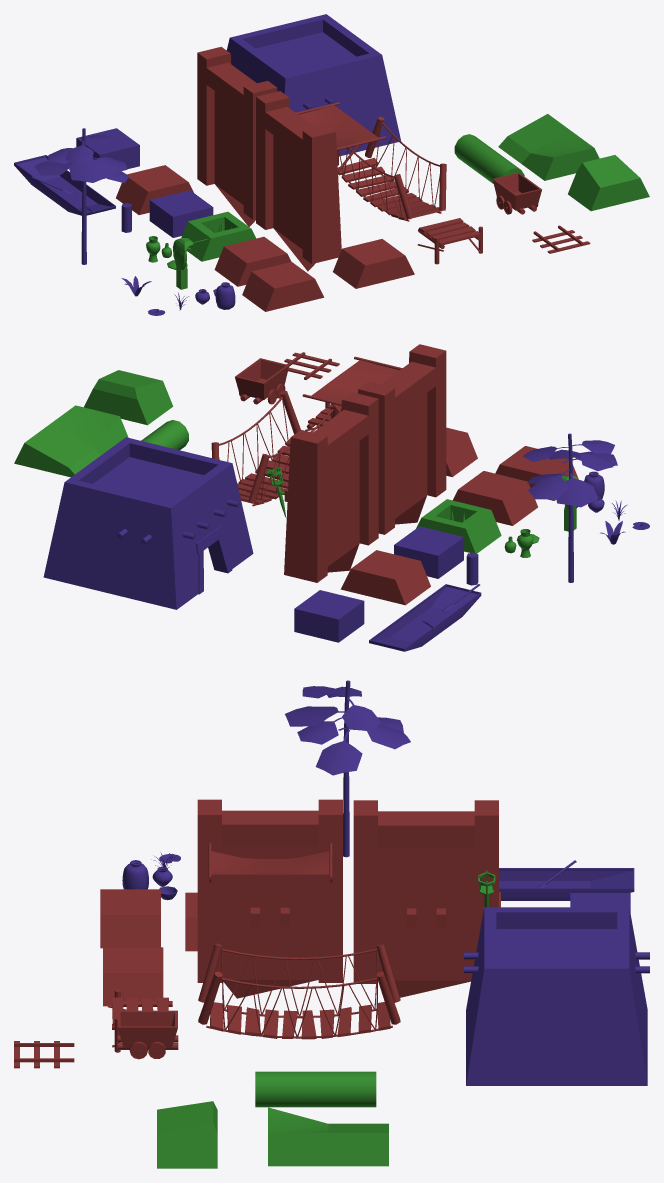
The model's file is Poging.FBX.
3 views of the same model, one above another, from view 1: azimuth 30°, elevation 25°; view 2: azimuth 150°, elevation 25°; view 3: azimuth 270°, elevation 25° (orthographic). The views are drawn at different scales.
Visible parts, largest first — view 1: Box107, Box151, Box152, Box064, jump, checkpoint, overgang-steen-zand, Box156, Box065, Box108, Box056, tilenaarschuin (+15 smaller); view 2: Box107, Box065, Box064, Box152, Box108, zand, jump, Box151, Box020, steenblok, steen, Box156 (+14 smaller); view 3: Box107, Box064, Box152, balk, Box020, Box156, jump, Box108, Box151, checkpoint, Box155, Box069 (+14 smaller).
Boxes of the visible parts, x1=… form: Box107: x1=226, y1=14, x2=400, y2=156; Box151: x1=302, y1=125, x2=341, y2=263; Box152: x1=273, y1=135, x2=315, y2=271; Box064: x1=214, y1=91, x2=255, y2=226; jump: x1=568, y1=155, x2=649, y2=211; checkpoint: x1=242, y1=262, x2=324, y2=311; overgang-steen-zand: x1=333, y1=239, x2=414, y2=288; Box156: x1=256, y1=91, x2=289, y2=229; Box065: x1=197, y1=46, x2=231, y2=185; Box108: x1=14, y1=155, x2=115, y2=215; Box056: x1=181, y1=211, x2=256, y2=261; tilenaarschuin: x1=521, y1=131, x2=599, y2=180; Box107: x1=43, y1=437, x2=253, y2=609; Box065: x1=284, y1=430, x2=327, y2=582; Box064: x1=327, y1=441, x2=359, y2=572; Box152: x1=395, y1=393, x2=427, y2=524; Box108: x1=369, y1=584, x2=481, y2=651; zand: x1=340, y1=550, x2=430, y2=605; jump: x1=84, y1=370, x2=173, y2=425; Box151: x1=409, y1=344, x2=446, y2=497; Box020: x1=341, y1=392, x2=378, y2=545; steenblok: x1=294, y1=590, x2=364, y2=642; steen: x1=452, y1=471, x2=537, y2=525; Box156: x1=358, y1=381, x2=394, y2=534; Box107: x1=466, y1=907, x2=647, y2=1085; Box064: x1=378, y1=847, x2=474, y2=997; Box152: x1=222, y1=846, x2=318, y2=998; balk: x1=255, y1=1071, x2=376, y2=1107; Box020: x1=353, y1=800, x2=377, y2=983; Box156: x1=318, y1=799, x2=342, y2=982; jump: x1=157, y1=1101, x2=217, y2=1168; Box108: x1=499, y1=868, x2=634, y2=900; Box151: x1=197, y1=799, x2=221, y2=982; checkpoint: x1=100, y1=889, x2=160, y2=948; Box155: x1=222, y1=810, x2=318, y2=846; Box069: x1=378, y1=811, x2=474, y2=847.
Size of the model in its own units: 1315 by 369 by 1052.
